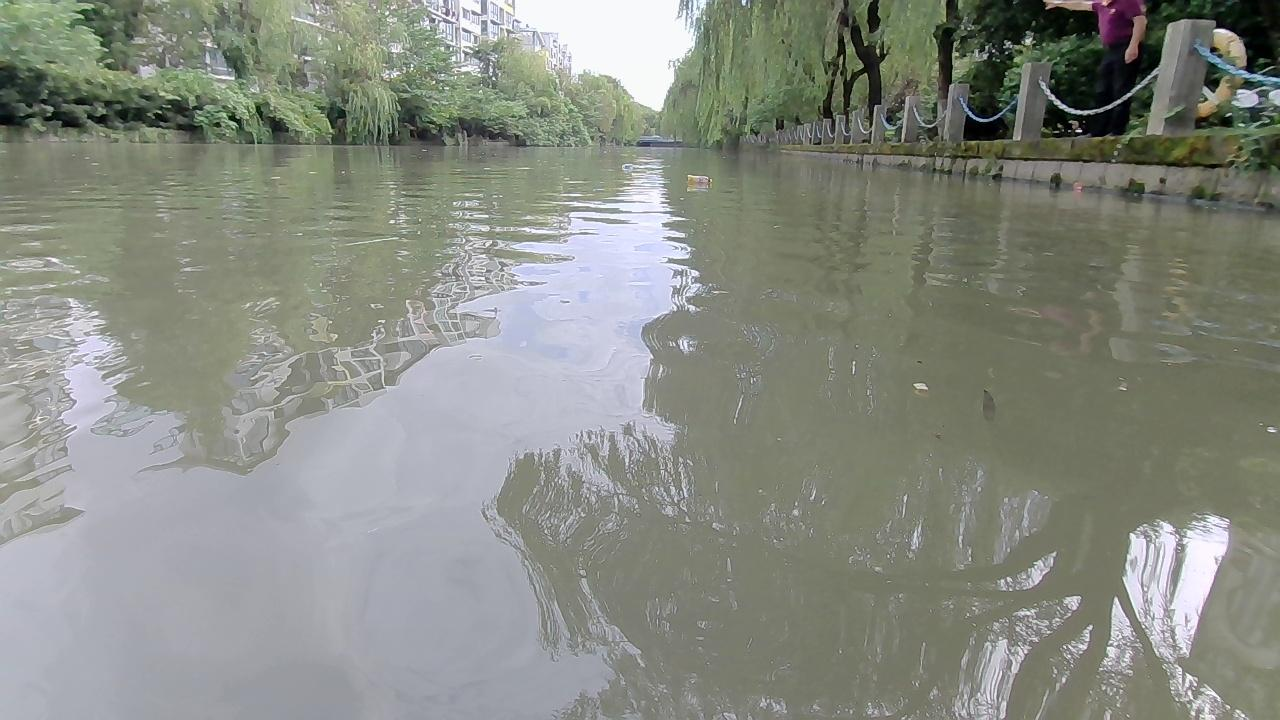bottle: (681, 170, 714, 191), (617, 163, 640, 175), (1070, 180, 1088, 192)
